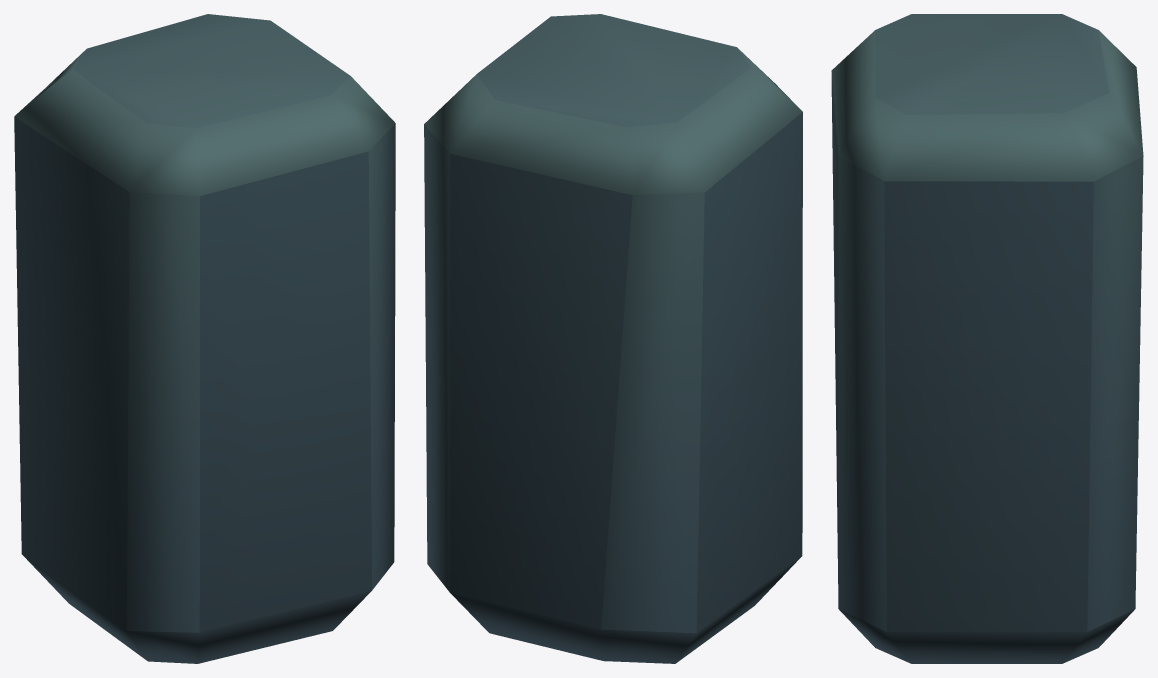
File: archway_small_frame_part_small2.fbx
The picture shows the model from 3 angles, left to right: view 1: azimuth 30°, elevation 25°; view 2: azimuth 150°, elevation 25°; view 3: azimuth 270°, elevation 25°; orthographic projection. The views are drawn at different scales.
Parts seen in each view (by area): view 1: archway_small_frame_part_small2; view 2: archway_small_frame_part_small2; view 3: archway_small_frame_part_small2.
Part boxes in pixels (x1=…): archway_small_frame_part_small2: x1=14, y1=14, x2=395, y2=663; archway_small_frame_part_small2: x1=424, y1=14, x2=802, y2=663; archway_small_frame_part_small2: x1=831, y1=14, x2=1143, y2=663.
Size of the model in its own units: 63.02 by 116 by 59.53.
